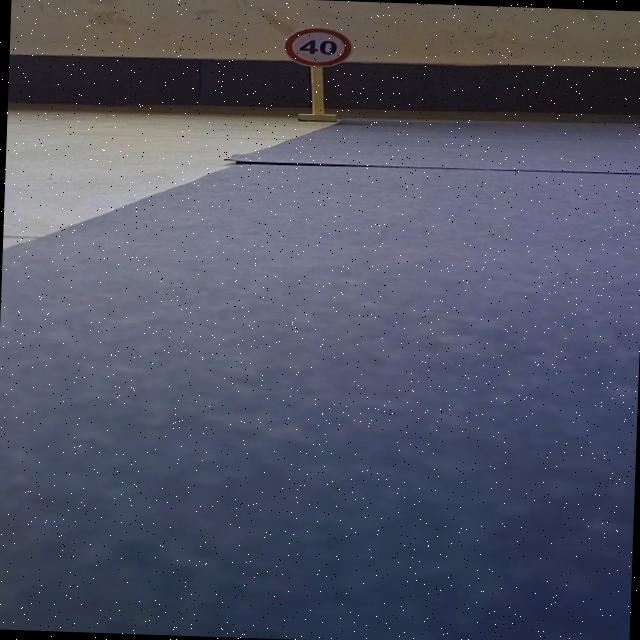Speed40: (270, 20, 370, 74)
